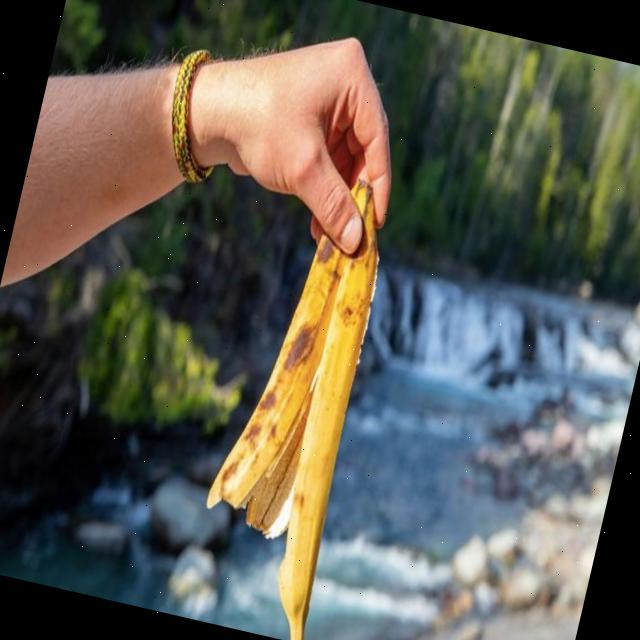banana-peel: (178, 158, 409, 640)
